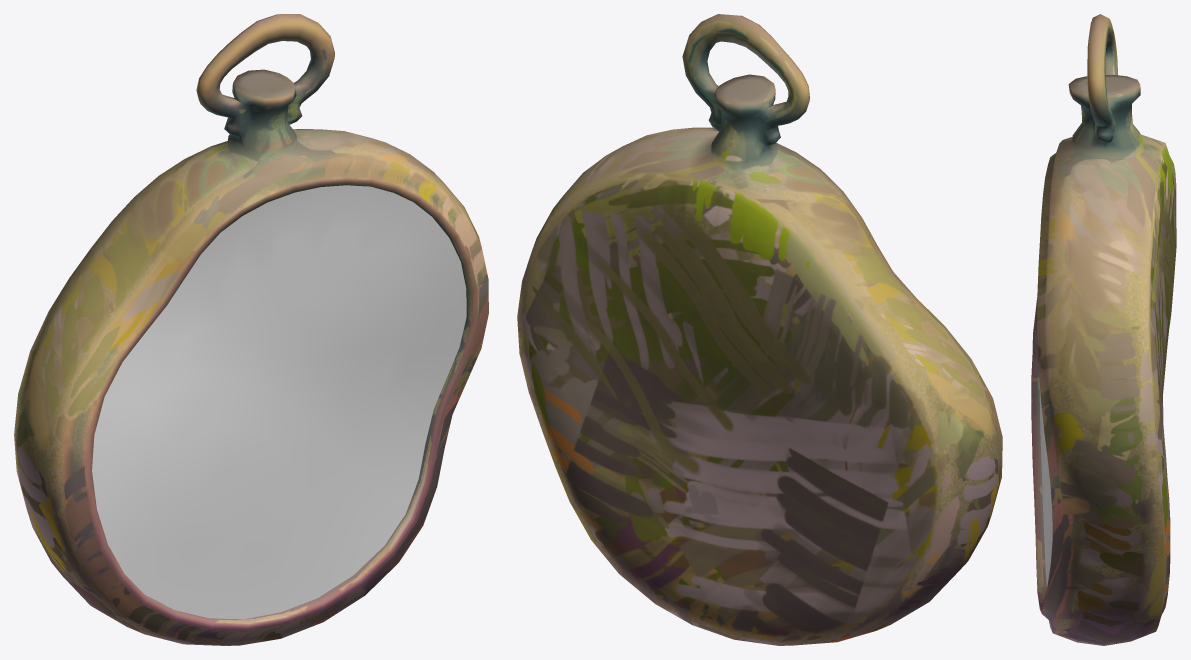
The model's file is prop_clock3.fbx.
The picture shows the model from 3 angles, left to right: view 1: azimuth 30°, elevation 25°; view 2: azimuth 150°, elevation 25°; view 3: azimuth 270°, elevation 25°; orthographic projection.
Parts seen in each view (by area): view 1: prop_clock3_glass, prop_clock3_common; view 2: prop_clock3_common; view 3: prop_clock3_common, prop_clock3_glass.
Boxes of the visible parts, left/top/right/bottom form: prop_clock3_glass: left=92, top=185, right=466, bottom=619; prop_clock3_common: left=14, top=14, right=488, bottom=645; prop_clock3_common: left=517, top=14, right=1002, bottom=645; prop_clock3_common: left=1031, top=14, right=1176, bottom=645; prop_clock3_glass: left=1039, top=385, right=1052, bottom=586.
Bounding box in the file's own units: 0.959 × 1.24 × 0.2656.
